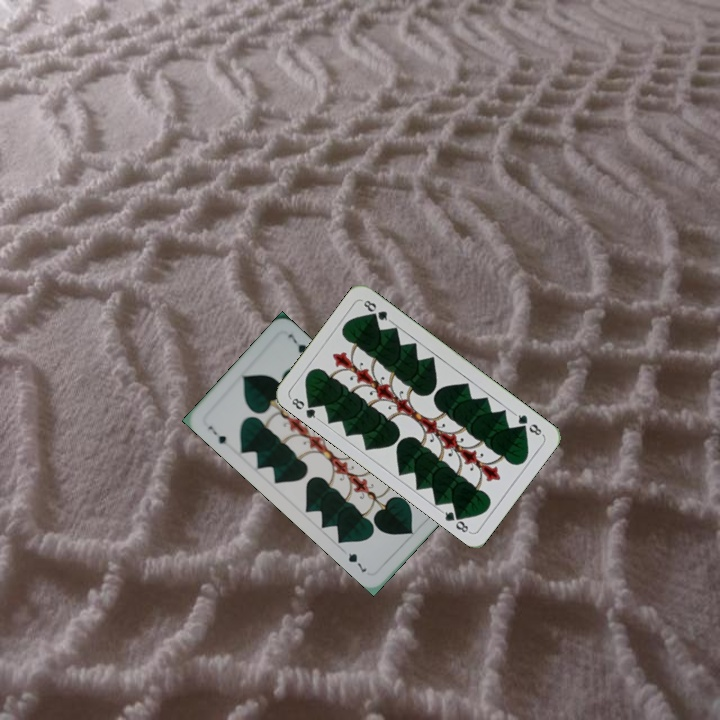G7: (204, 422, 229, 447)
G8: (286, 394, 322, 423), (511, 410, 546, 438)
